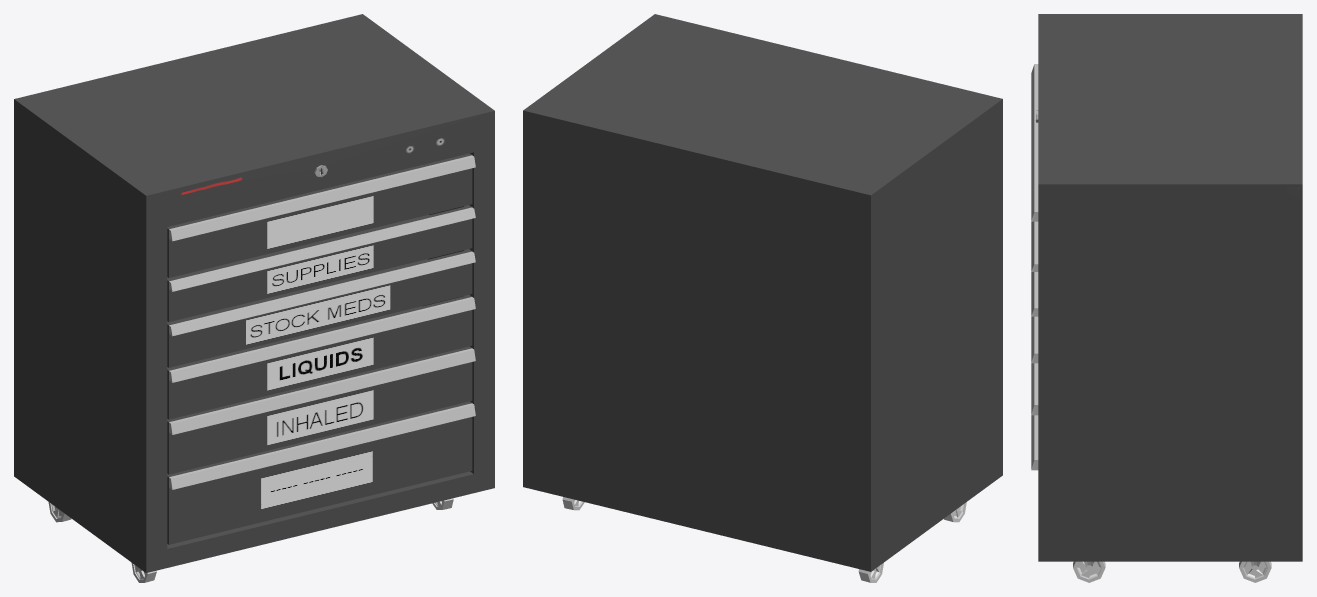
Rendered from New_Medicine_Cart.fbx.
3 renders of one model, left to right at view 1: azimuth 30°, elevation 25°; view 2: azimuth 150°, elevation 25°; view 3: azimuth 270°, elevation 25°, orthographic.
Visible parts, largest first — view 1: Cart, Drawer.005, Drawer.003, Drawer.002, Drawer, Drawer.001, Drawer.006, Wheels; view 2: Cart, Wheels; view 3: Cart, Drawer, Wheels, Drawer.005, Drawer.003, Drawer.006, Drawer.002, Drawer.001.
Boxes of the visible parts, left/top/right/bottom form: Cart: left=14, top=14, right=494, bottom=572; Drawer.005: left=167, top=401, right=475, bottom=544; Drawer.003: left=167, top=346, right=475, bottom=474; Drawer.002: left=167, top=295, right=475, bottom=419; Drawer: left=167, top=153, right=475, bottom=277; Drawer.001: left=167, top=249, right=475, bottom=367; Drawer.006: left=167, top=205, right=475, bottom=321; Wheels: left=48, top=498, right=453, bottom=582; Cart: left=523, top=14, right=1002, bottom=571; Wheels: left=562, top=497, right=966, bottom=582; Cart: left=1035, top=14, right=1302, bottom=561; Drawer: left=1031, top=64, right=1038, bottom=221; Wheels: left=1073, top=561, right=1271, bottom=582; Drawer.005: left=1031, top=415, right=1038, bottom=470; Drawer.003: left=1031, top=363, right=1038, bottom=415; Drawer.006: left=1031, top=221, right=1038, bottom=271; Drawer.002: left=1031, top=316, right=1038, bottom=363; Drawer.001: left=1031, top=272, right=1038, bottom=316.
Bounding box in the file's own units: 111 × 125 × 74.99.
